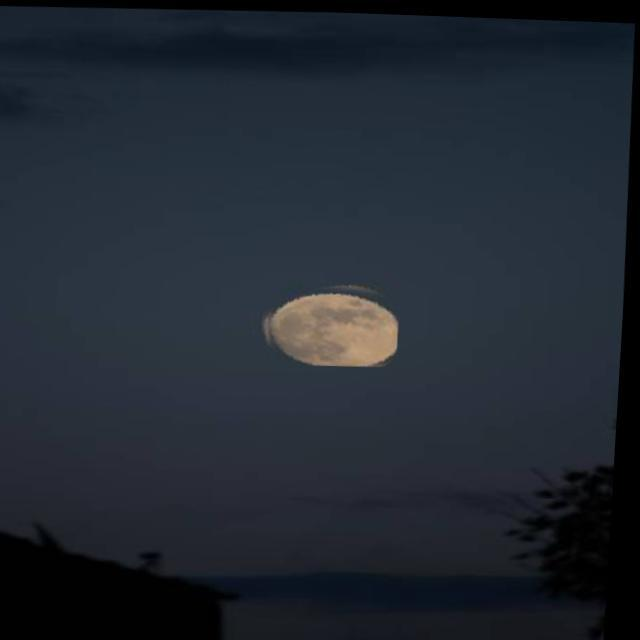moon: (262, 270, 404, 366)
